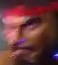ryu: (0, 0, 55, 64)
